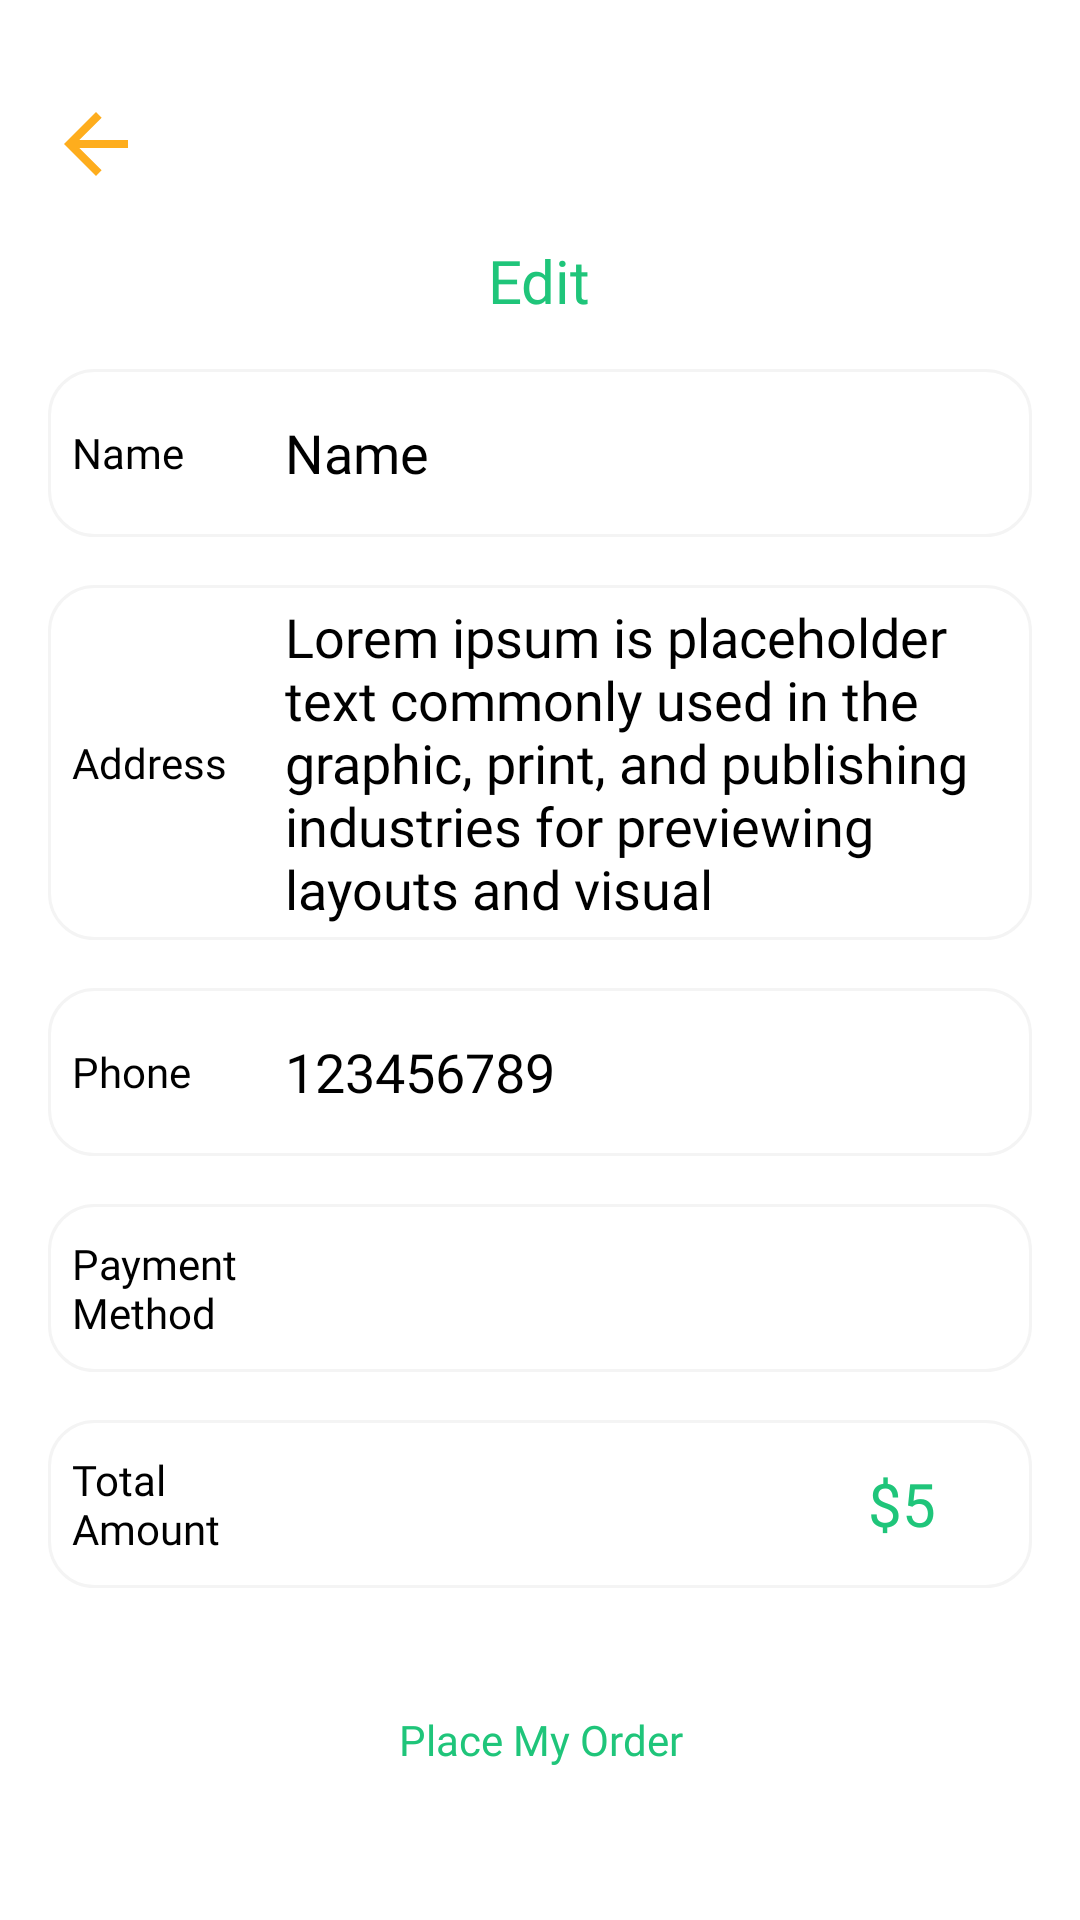

Icon click points for this 1080 × 1920 phone screenshot, format (x,y):
arrow left: (96,144)
